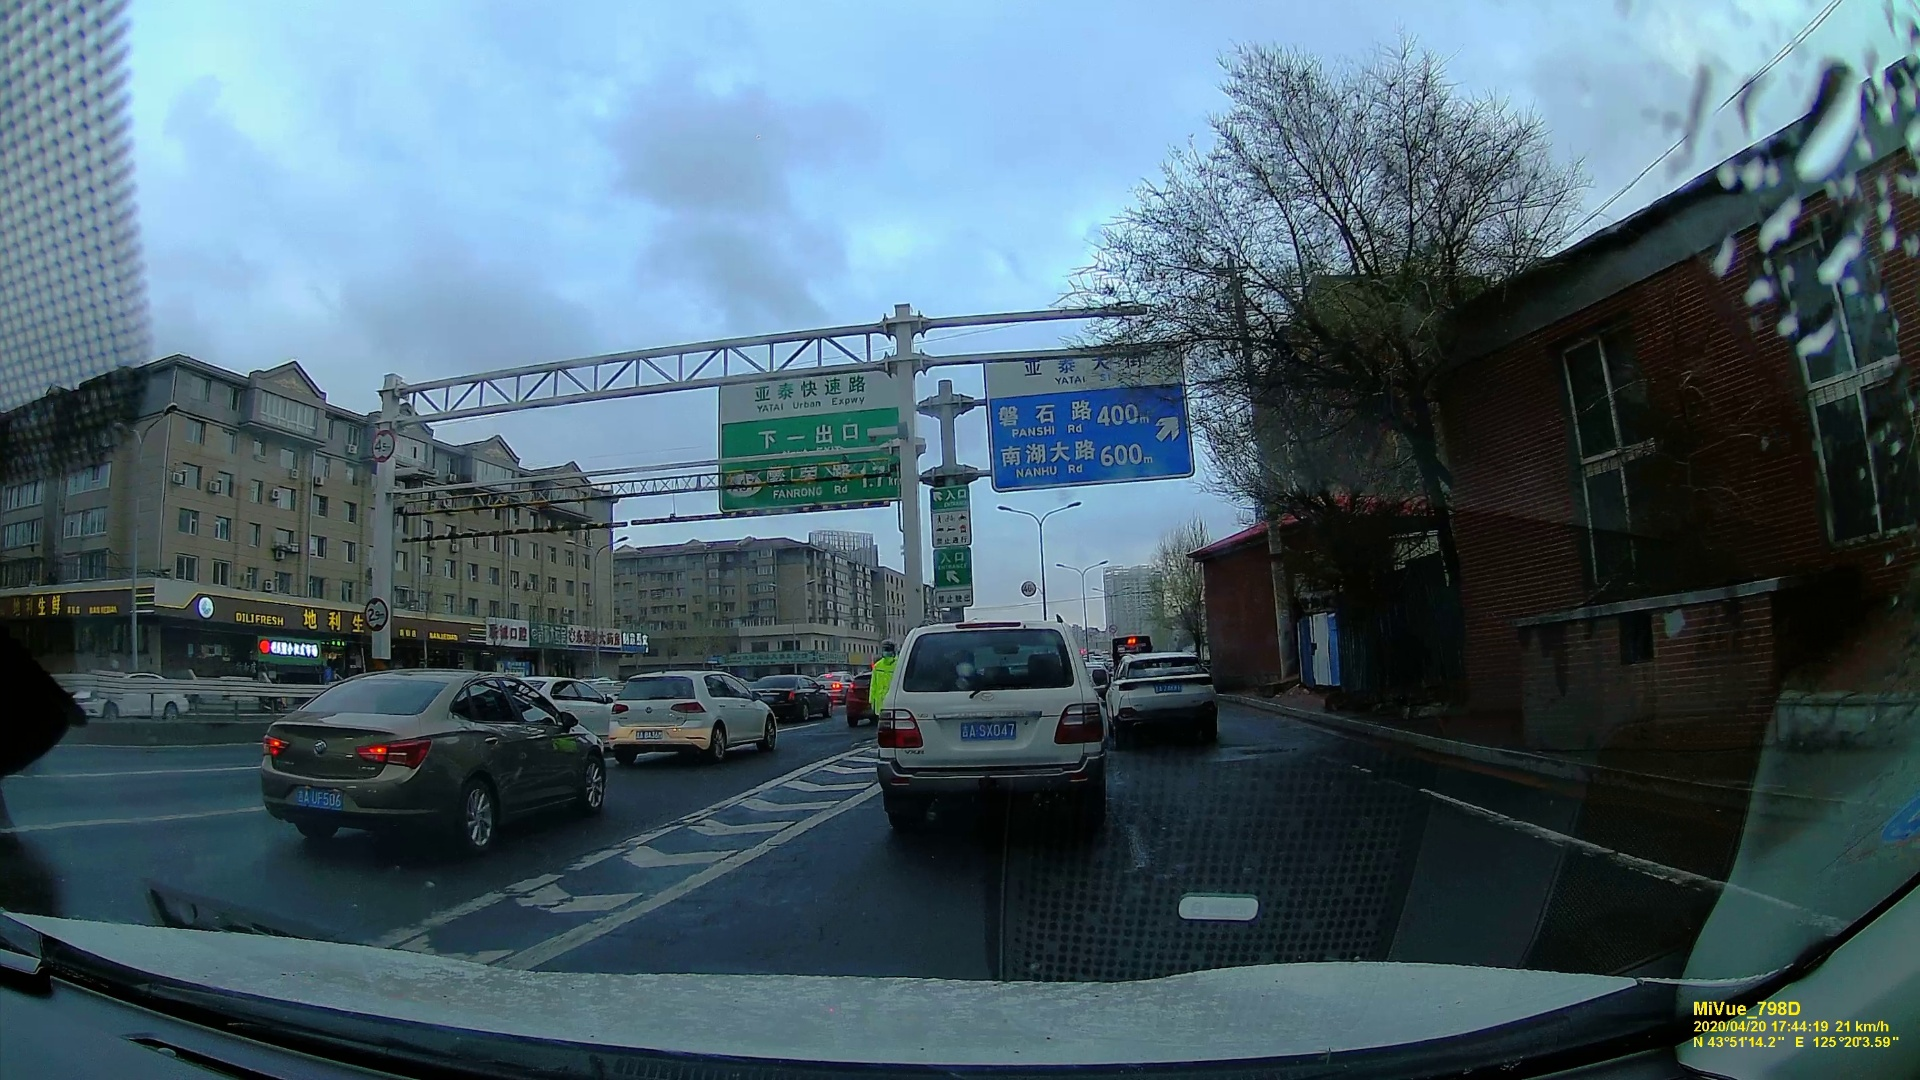person: (863, 642, 895, 717)
traffic_sign: (713, 363, 885, 520), (973, 365, 1196, 482), (929, 472, 969, 608)
vehicle: (252, 662, 611, 856), (877, 615, 1109, 816), (601, 668, 774, 764), (1104, 649, 1223, 736), (755, 676, 834, 726)
